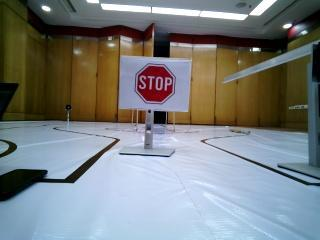stop: (126, 59, 185, 107)
